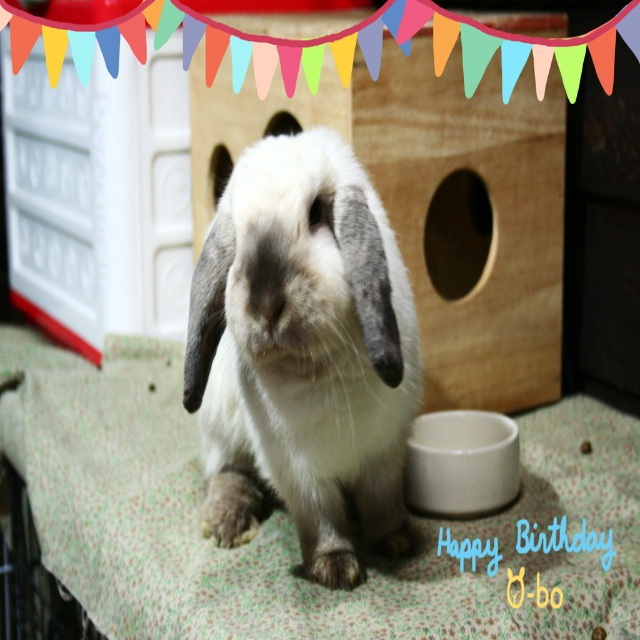Rabbit: (183, 124, 426, 591)
